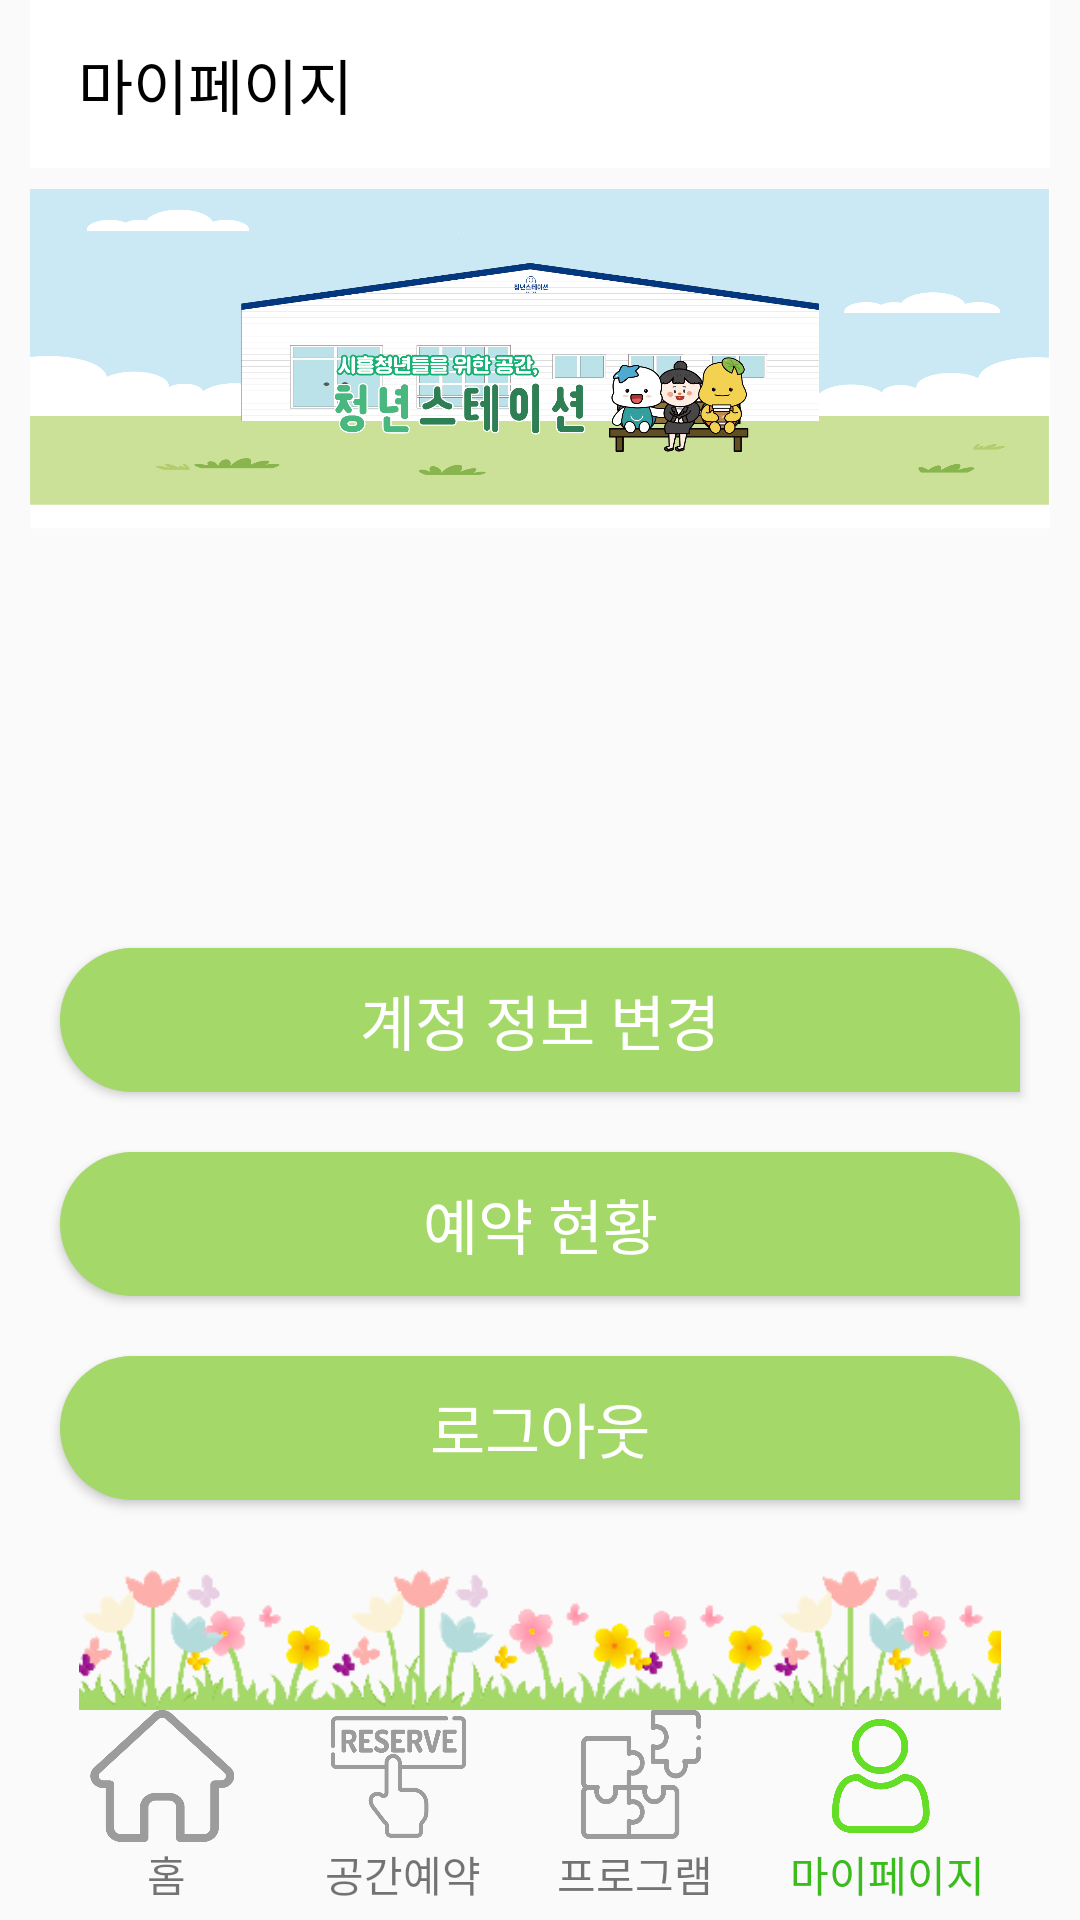

Icons on this 1080 x 1920 Android screen, each with the point to tap as point (x, y):
puzzle: point (641, 1787)
